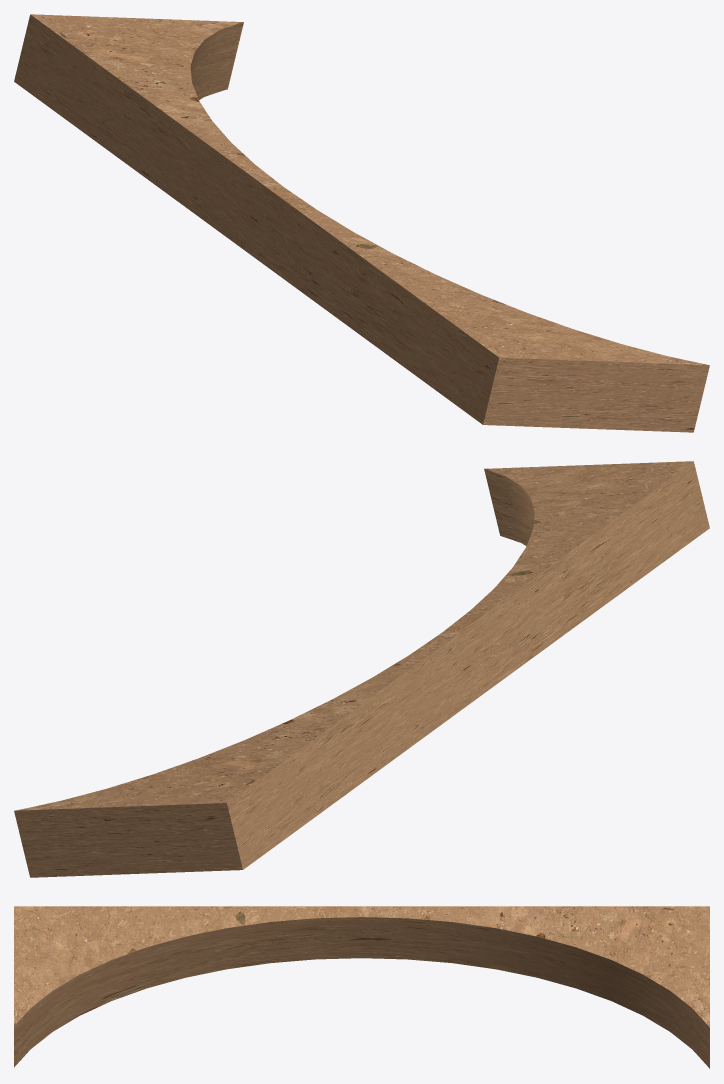
Rendered from Obstacle-arch.gltf.
3 views of the same model, one above another, from view 1: azimuth 30°, elevation 25°; view 2: azimuth 150°, elevation 25°; view 3: azimuth 270°, elevation 25° (orthographic). The views are drawn at different scales.
Visible parts, largest first — view 1: Cube_1_7_Mat.2_0; view 2: Cube_1_7_Mat.2_0; view 3: Cube_1_7_Mat.2_0.
Boxes of the visible parts, x1=… form: Cube_1_7_Mat.2_0: x1=14, y1=14, x2=709, y2=432; Cube_1_7_Mat.2_0: x1=14, y1=461, x2=709, y2=877; Cube_1_7_Mat.2_0: x1=14, y1=906, x2=709, y2=1068.
Size of the model in its own units: 0.9225 by 0.4727 by 3.26.
Materials: 1 (1 with a texture image).
